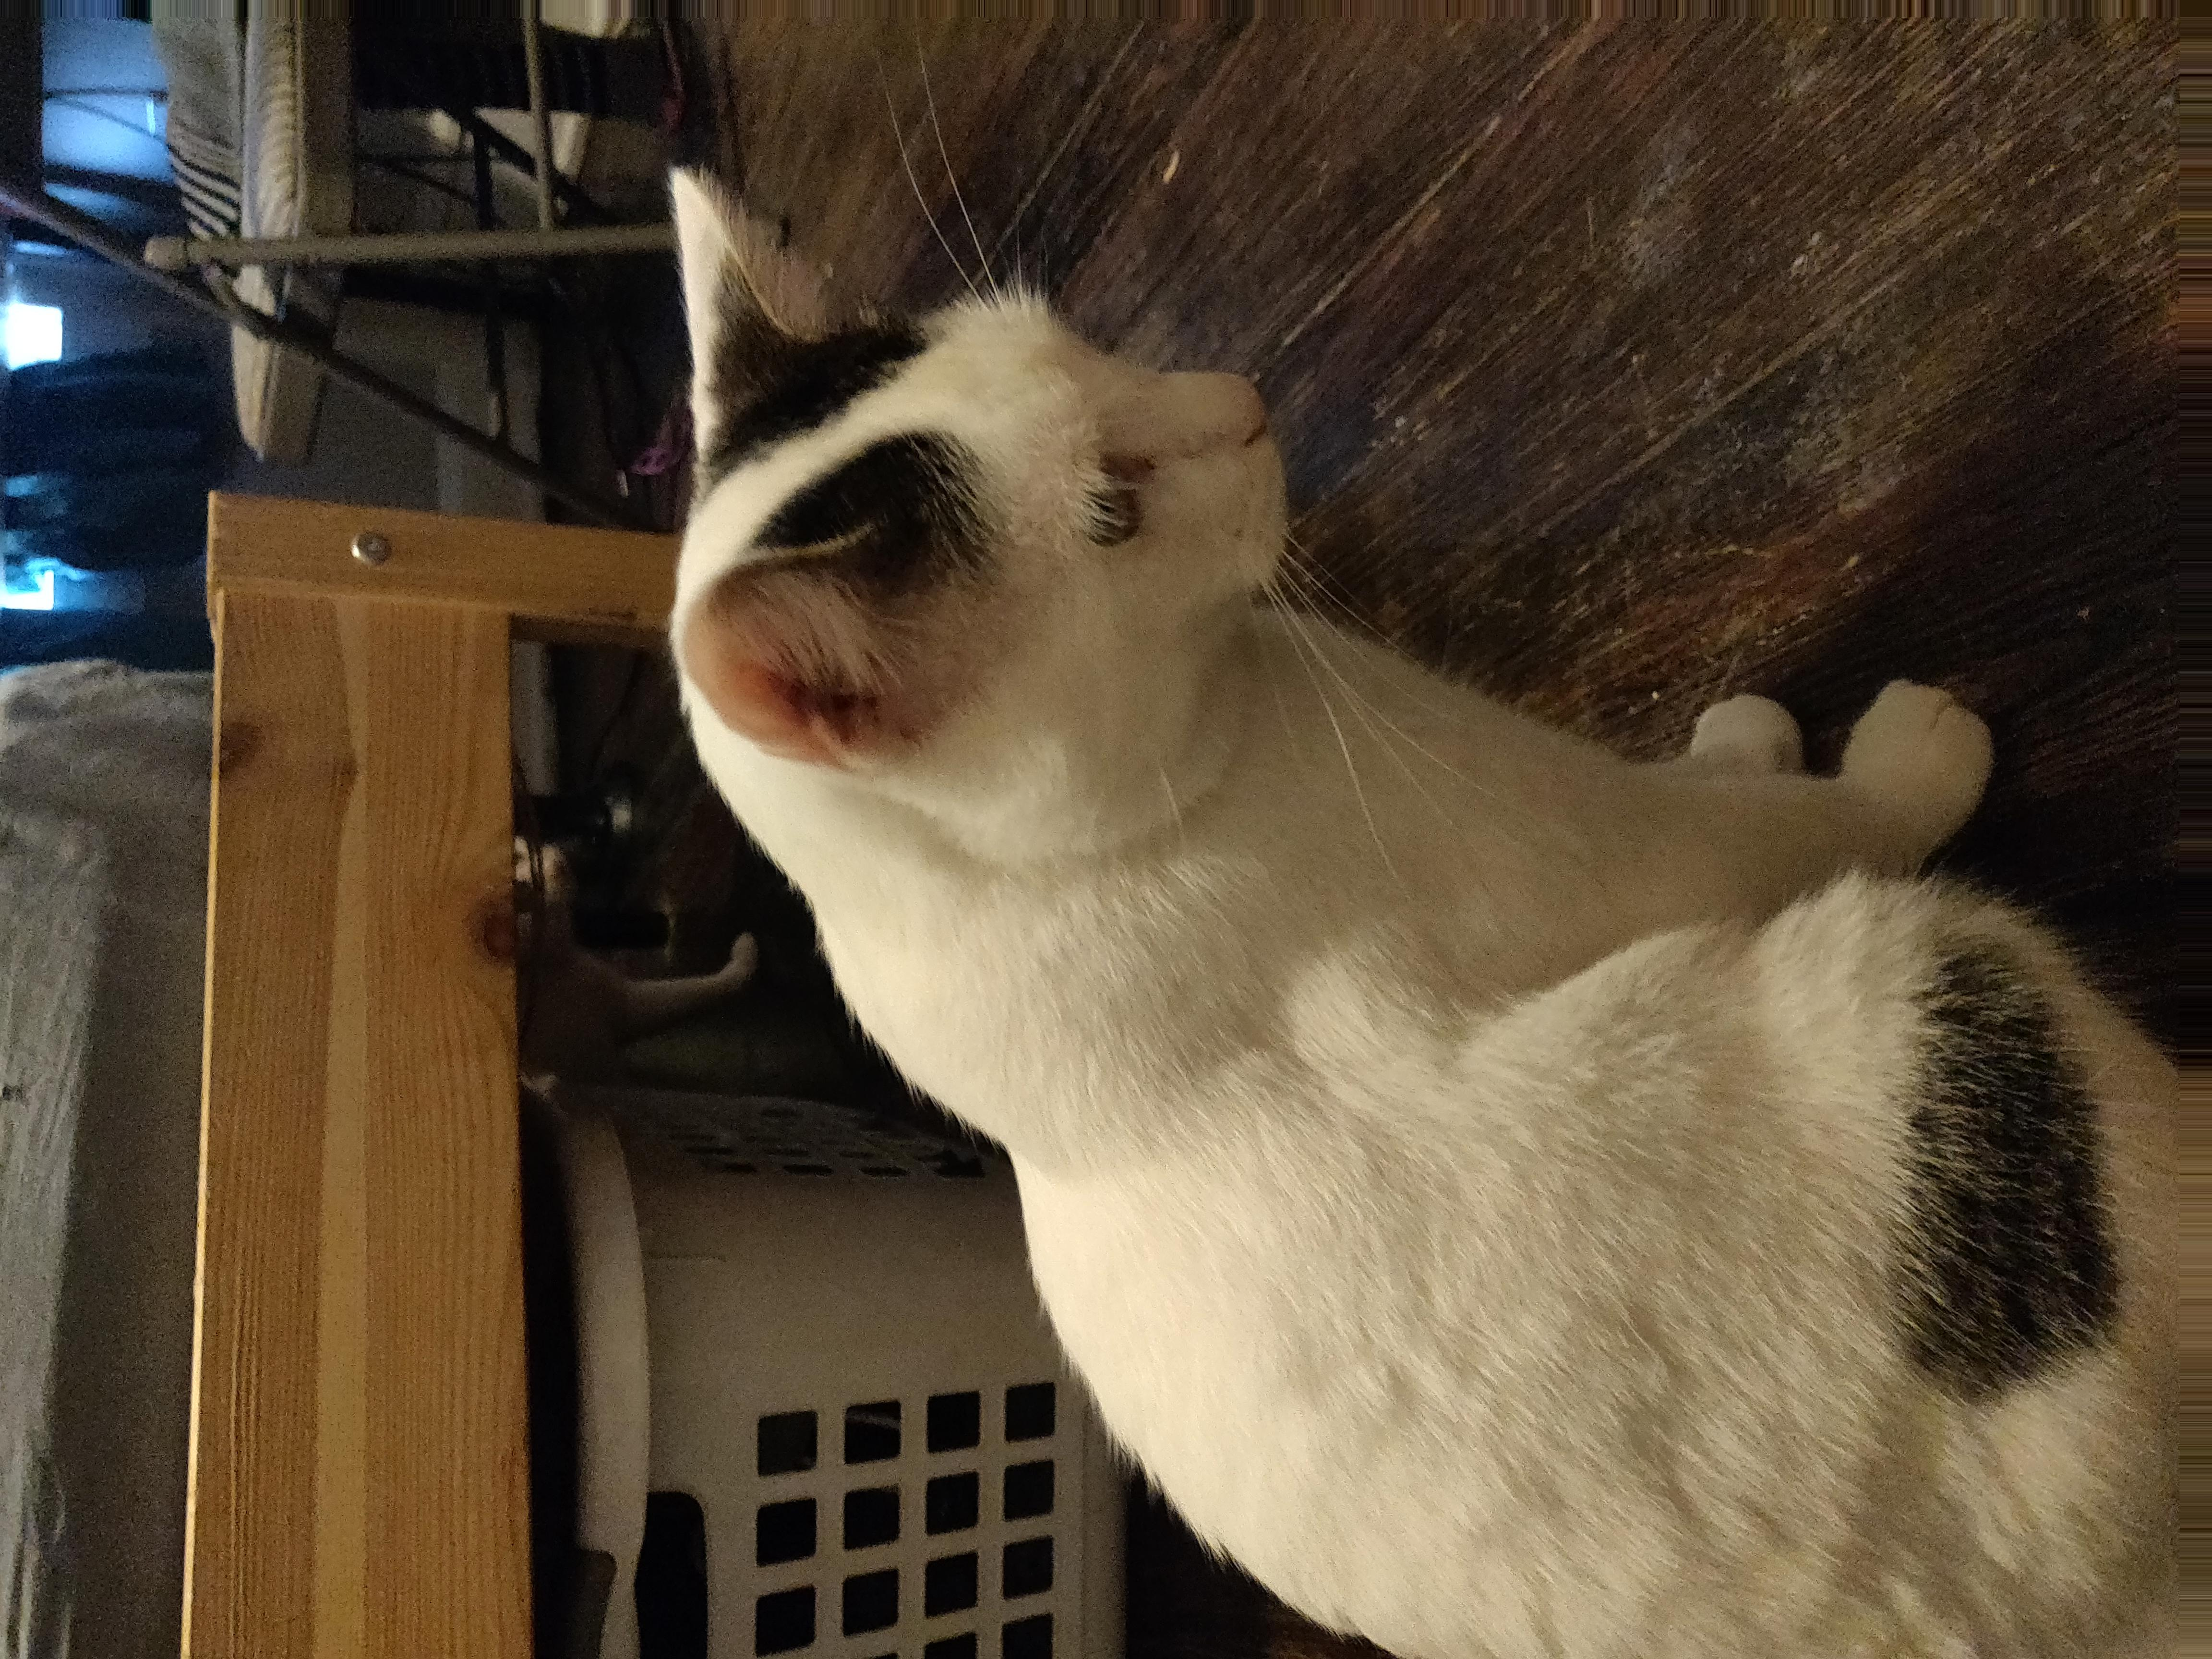cat: (667, 138, 2212, 1659)
